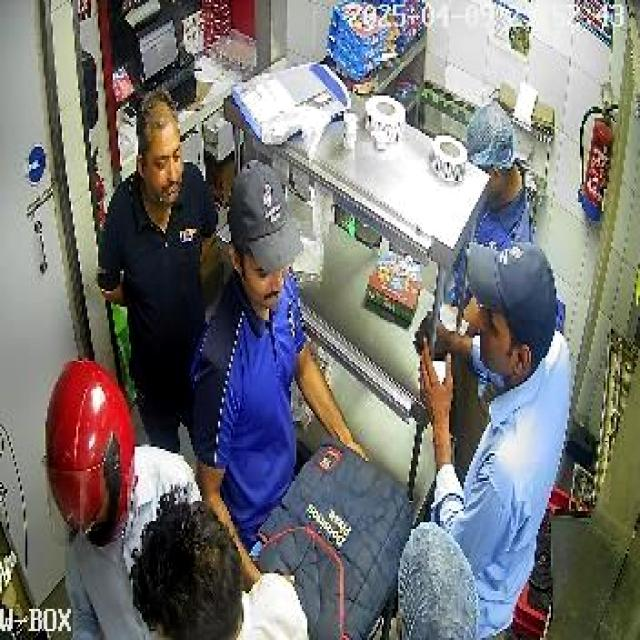helmet: (40, 358, 136, 550)
no_helmet: (132, 495, 240, 638), (464, 242, 557, 386), (226, 162, 303, 313), (136, 89, 181, 227)
